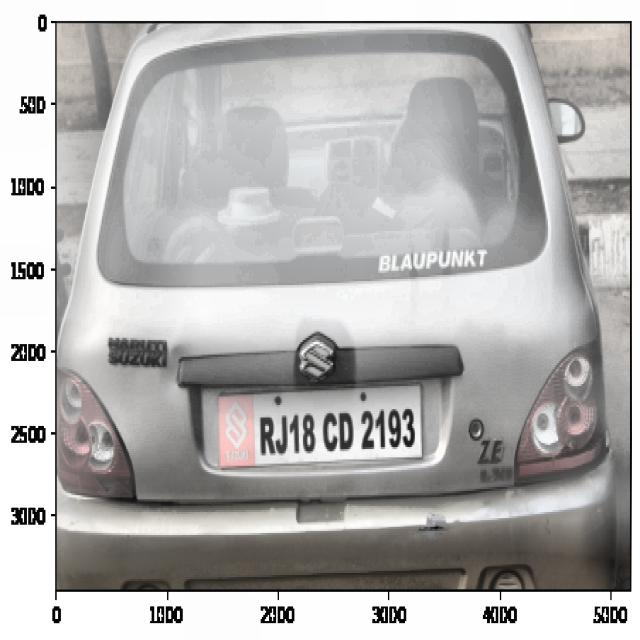license_plate: (256, 399, 422, 463)
